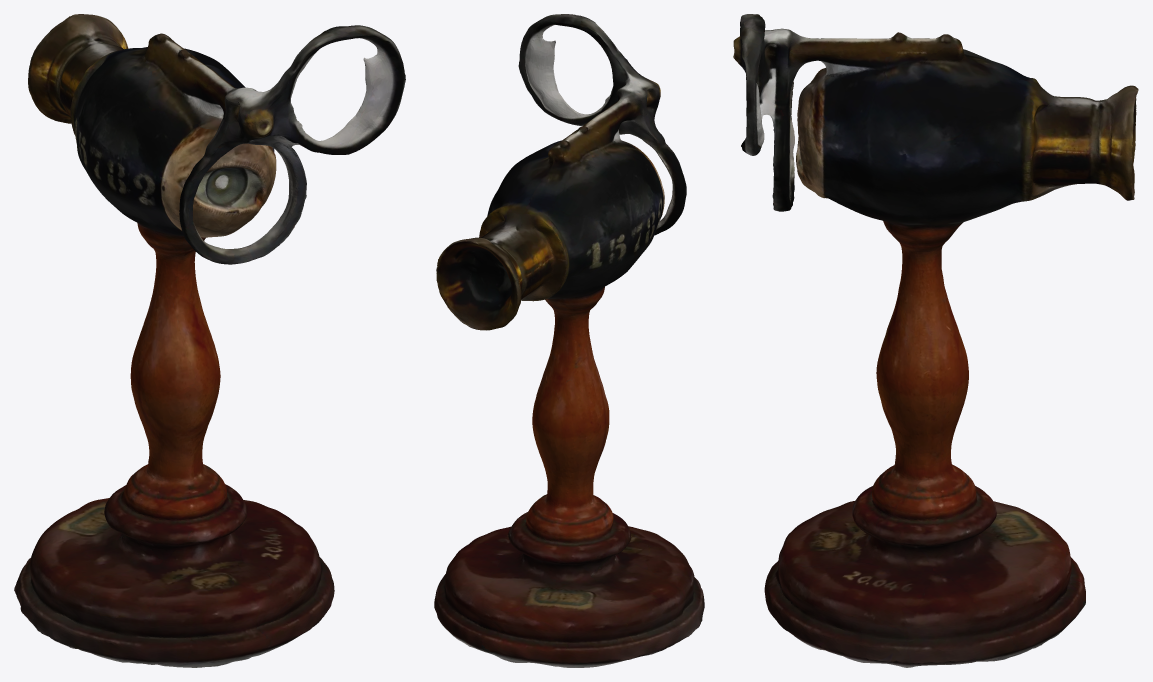
Rendered from modelo_optico.glb.
3 renders of one model, left to right at view 1: azimuth 30°, elevation 25°; view 2: azimuth 150°, elevation 25°; view 3: azimuth 270°, elevation 25°, orthographic. The views are drawn at different scales.
Parts seen in each view (by area): view 1: Mesh_0; view 2: Mesh_0; view 3: Mesh_0.
Part boxes in pixels (left/top/right/bottom): Mesh_0: left=14, top=14, right=405, bottom=667; Mesh_0: left=434, top=14, right=704, bottom=667; Mesh_0: left=733, top=14, right=1138, bottom=667.
Size of the model in its own units: 251 by 531 by 309.
Materials: 1 (1 with a texture image).
